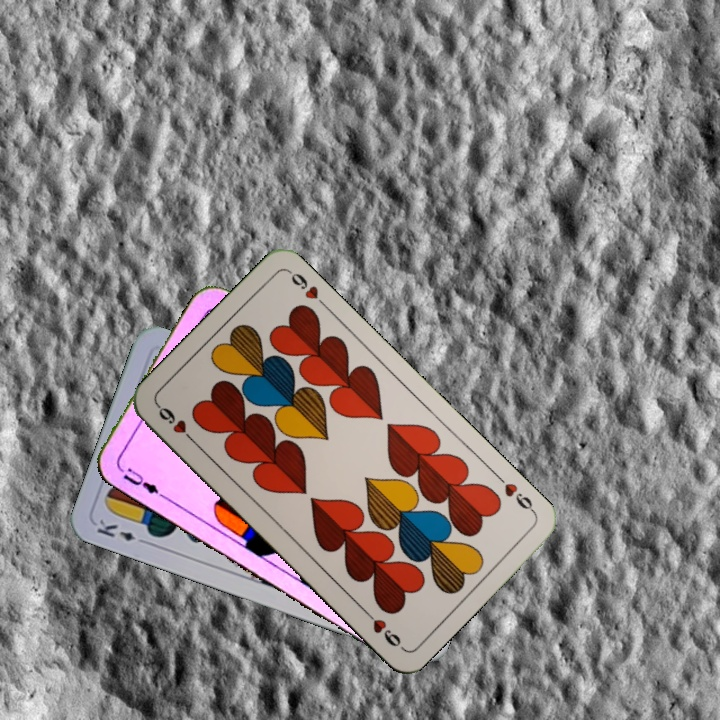EK: (93, 515, 150, 548)
EU: (112, 453, 165, 499)
H9: (153, 400, 199, 447), (492, 470, 538, 516)
